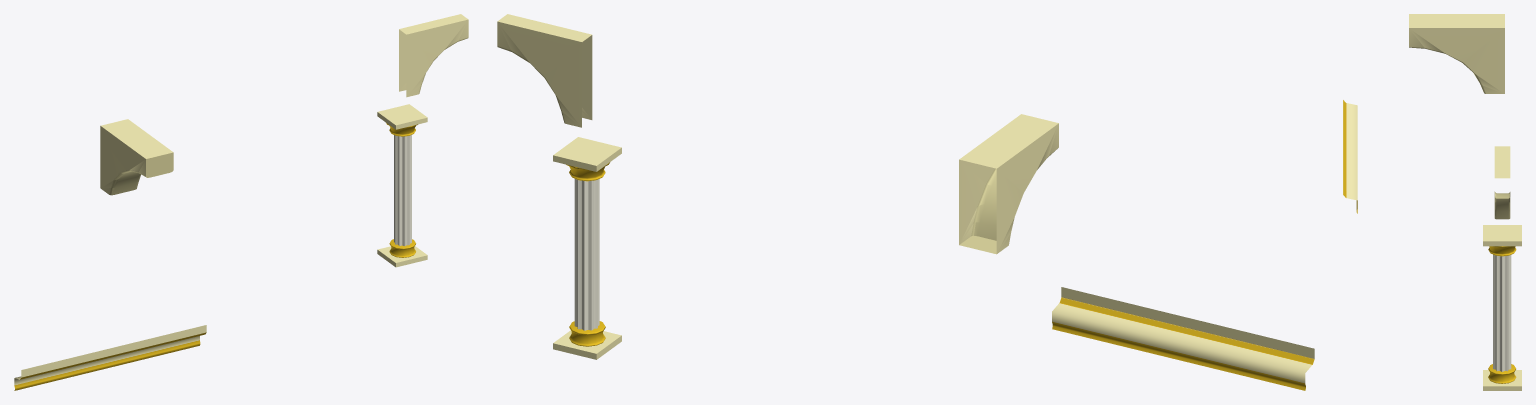
File: Cathedral_WallAssets.fbx
The picture shows the model from 3 angles, left to right: view 1: azimuth 30°, elevation 25°; view 2: azimuth 150°, elevation 25°; view 3: azimuth 270°, elevation 25°; orthographic projection. The views are drawn at different scales.
Parts seen in each view (by area): view 1: polySurface6, polySurface12, pCube46, polySurface5; view 2: pCube46, polySurface6, polySurface12, polySurface5; view 3: polySurface6, polySurface12, pCube46, polySurface5.
Part boxes in pixels (bbox=[...]): polySurface6: bbox=[100, 119, 173, 195]; polySurface12: bbox=[377, 104, 427, 267]; pCube46: bbox=[14, 325, 206, 390]; polySurface5: bbox=[399, 14, 468, 97]; pCube46: bbox=[1052, 287, 1314, 390]; polySurface6: bbox=[959, 114, 1058, 254]; polySurface12: bbox=[553, 137, 621, 359]; polySurface5: bbox=[497, 14, 592, 127]; polySurface6: bbox=[1409, 14, 1504, 93]; polySurface12: bbox=[1483, 225, 1521, 390]; pCube46: bbox=[1343, 100, 1357, 213]; polySurface5: bbox=[1494, 146, 1510, 219].
Bounding box in the file's own units: 90.12 × 37.3 × 25.53.
